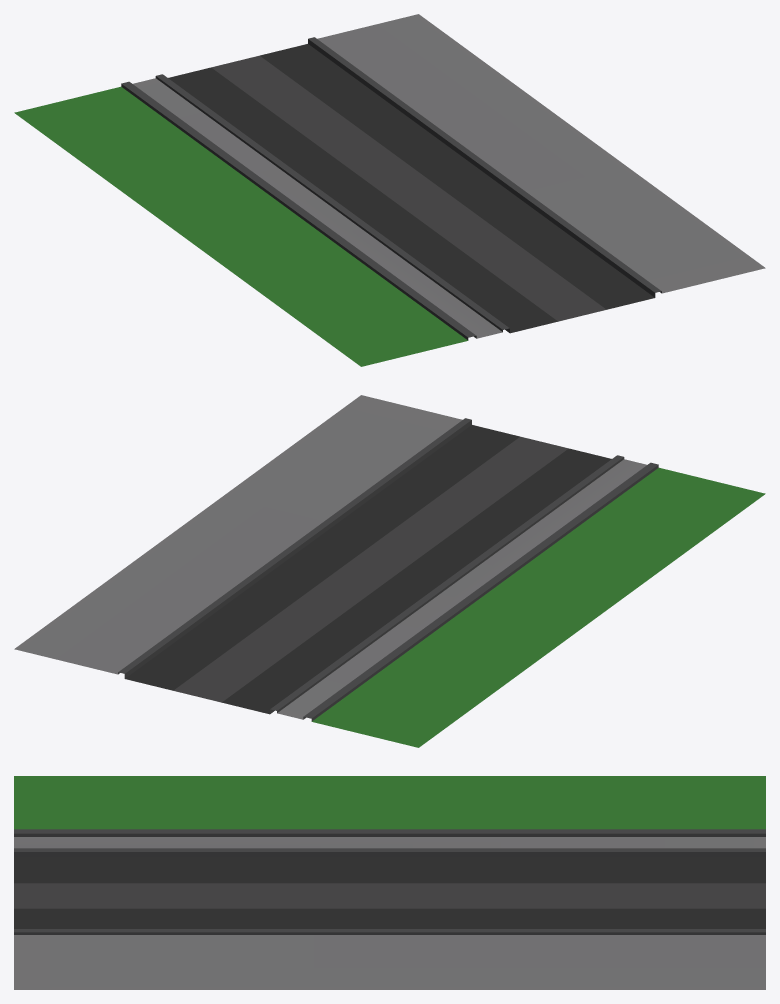
The model's file is chao.fbx.
3 views of the same model, one above another, from view 1: azimuth 30°, elevation 25°; view 2: azimuth 150°, elevation 25°; view 3: azimuth 270°, elevation 25° (orthographic). The views are drawn at different scales.
Parts seen in each view (by area): view 1: Chao; view 2: Chao; view 3: Chao.
Part boxes in pixels (x1,y1,x2,y2): Chao: [14, 14, 765, 366]; Chao: [14, 395, 765, 747]; Chao: [14, 776, 765, 989].
Bounding box in the file's own units: 1209 × 16.56 × 1797.
